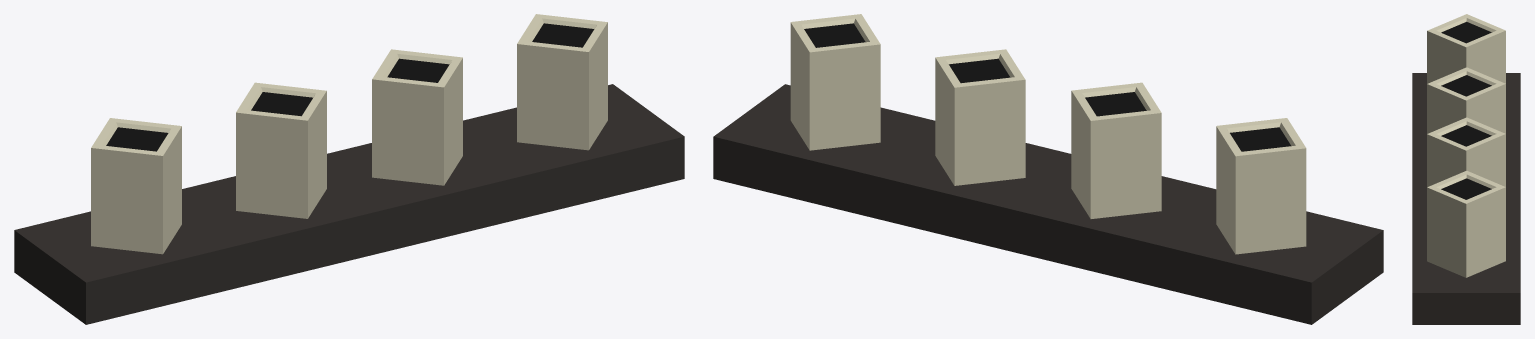
The model's file is Cup_4.fbx.
The picture shows the model from 3 angles, left to right: view 1: azimuth 30°, elevation 25°; view 2: azimuth 150°, elevation 25°; view 3: azimuth 270°, elevation 25°; orthographic projection. The views are drawn at different scales.
Visible parts, largest first — view 1: polySurface2177; view 2: polySurface2177; view 3: polySurface2177.
Boxes of the visible parts, left/top/right/bottom form: polySurface2177: left=14, top=14, right=684, bottom=324; polySurface2177: left=713, top=14, right=1383, bottom=324; polySurface2177: left=1412, top=14, right=1520, bottom=324.
Bounding box in the file's own units: 0.7028 × 0.1578 × 0.1459.
Materials: 1 (1 with a texture image).
